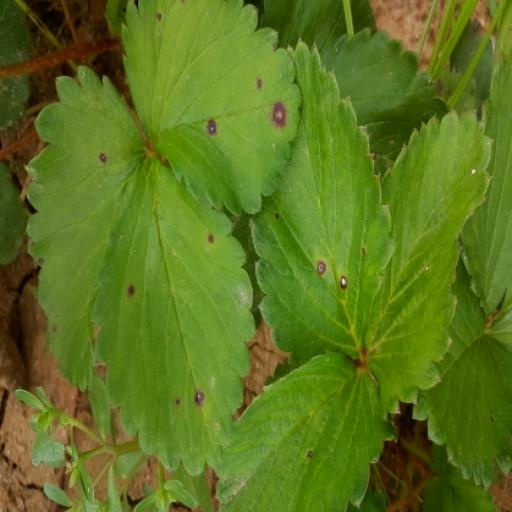Leaf Spot: (254, 149, 421, 477), (116, 39, 262, 367), (361, 63, 488, 392), (19, 109, 151, 419), (208, 0, 393, 218), (116, 353, 301, 511)
